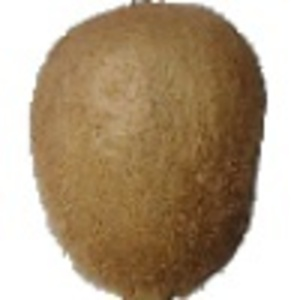kiwi: (28, 1, 268, 300)
